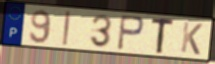3: (88, 14, 114, 49)
9: (28, 8, 53, 45)
I: (61, 10, 72, 47)
K: (179, 21, 205, 57)
P: (115, 14, 146, 52)
T: (150, 18, 177, 55)
